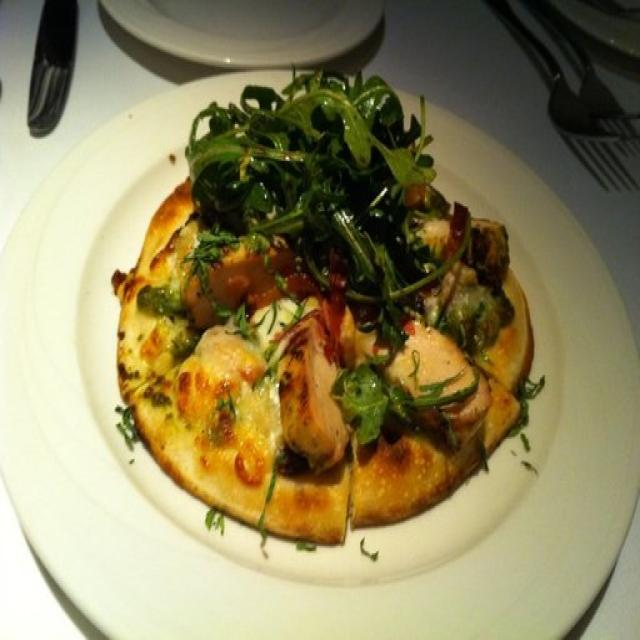Pizza: (111, 72, 534, 546)
Rucola: (172, 62, 431, 256), (338, 343, 475, 441), (340, 218, 418, 342), (135, 249, 199, 342), (224, 298, 280, 347)
